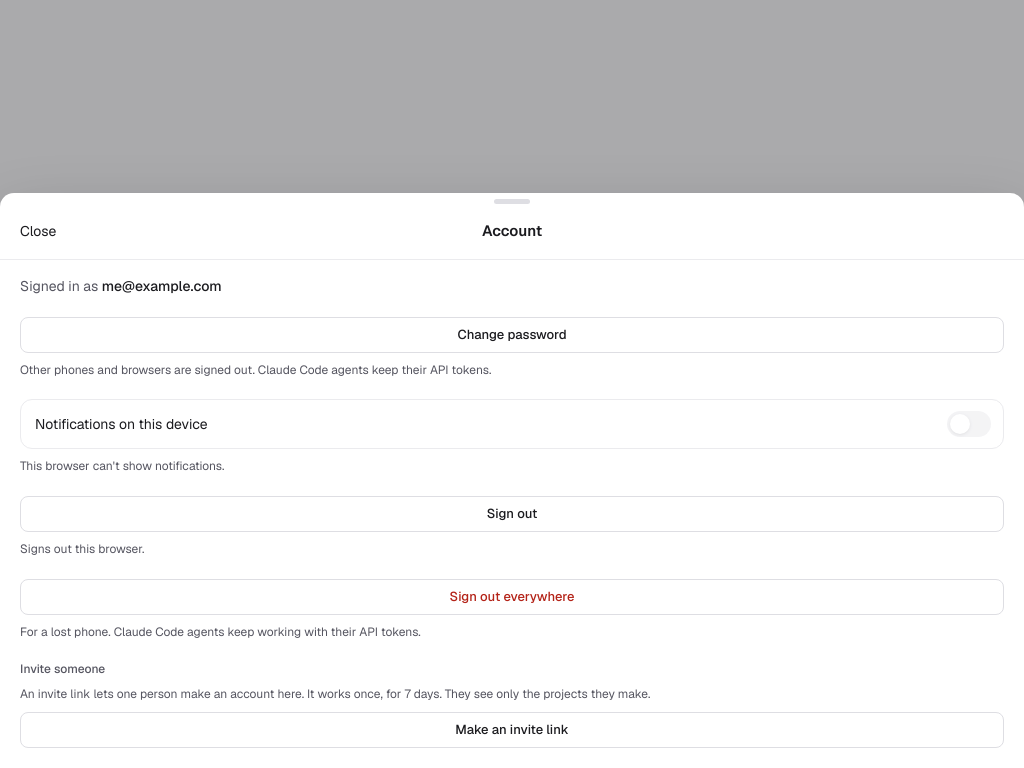
Test: AccountSheet › stays open with the reason when signing out fails
Click the button "Sign out" at point(512, 514), box [20,496,1004,532]
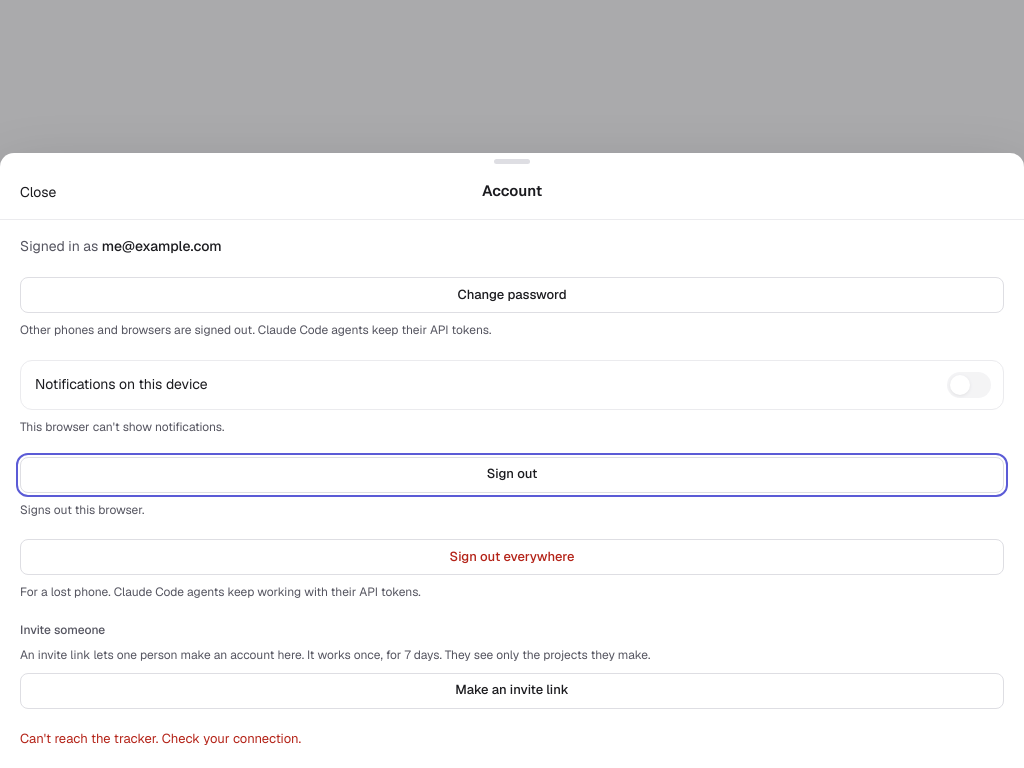
Expected: the message shows "Can't reach the tracker.", [20,730,301,746]
